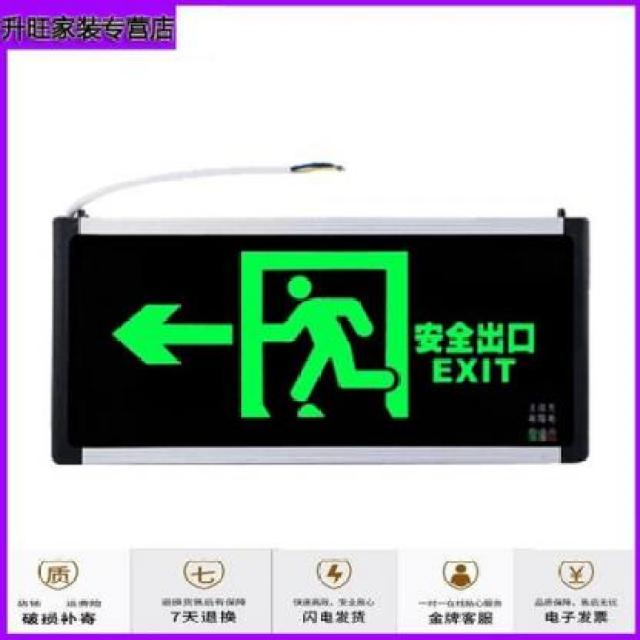exit_sign: (48, 196, 594, 474)
